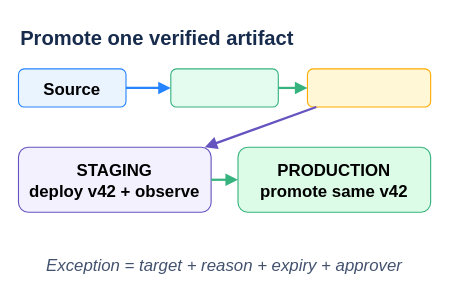
Some shapes in this 449 by 292 pixel diagram are drawn without their labels. The shapes that lost their labels are listed below. From the top down, each one's box as (x1, y1, x2, y2) in pixels, then its label:
(170, 68, 278, 107): Artifact v42
(306, 68, 431, 107): Test evidence
